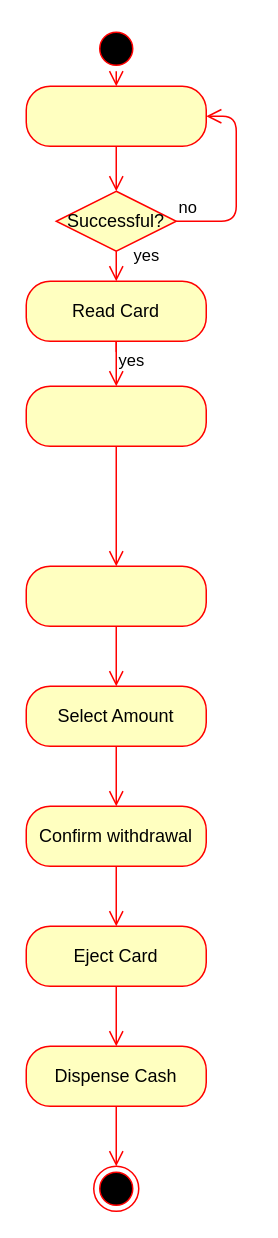
Some shapes in this 278 by 1238 pixel diagram are drawn without their labels. Here are the shapes that lost their labels. From the top down, the centre of each, then its label:
At (115,115): "Insert Card".
At (115,415): "Authenticate Customer".
At (115,595): "Select Withdrawal Menu".
